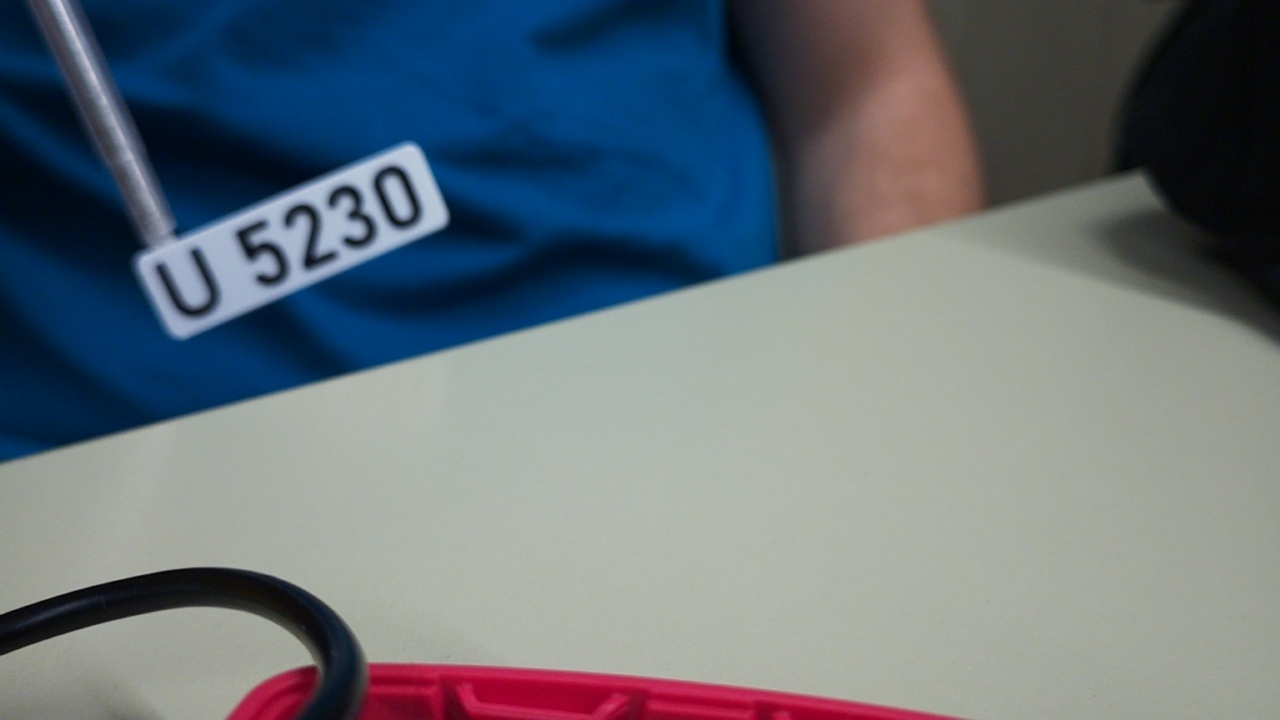license_plate: (130, 139, 454, 346)
